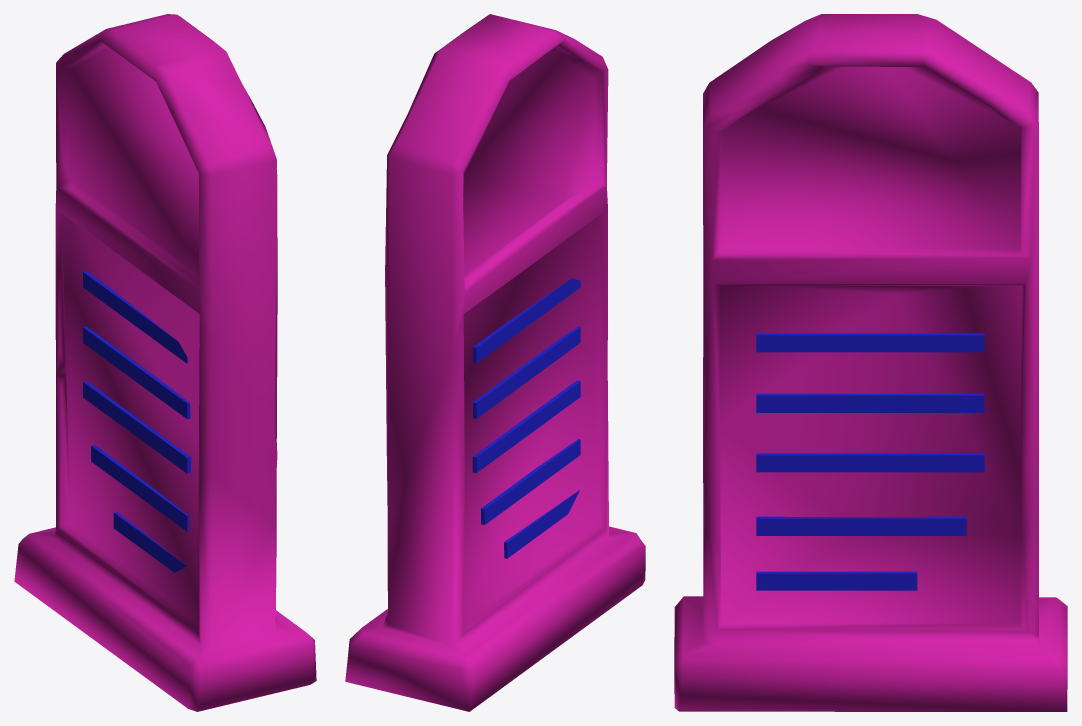
File: Tombstones.001.fbx
3 renders of one model, left to right at view 1: azimuth 30°, elevation 25°; view 2: azimuth 150°, elevation 25°; view 3: azimuth 270°, elevation 25°, orthographic. The views are drawn at different scales.
Visible parts, largest first — view 1: Tombstones.001; view 2: Tombstones.001; view 3: Tombstones.001.
Part boxes in pixels (bbox=[...]): Tombstones.001: bbox=[14, 14, 316, 711]; Tombstones.001: bbox=[345, 14, 645, 711]; Tombstones.001: bbox=[674, 14, 1067, 711].
Bounding box in the file's own units: 165 × 752 × 414.
